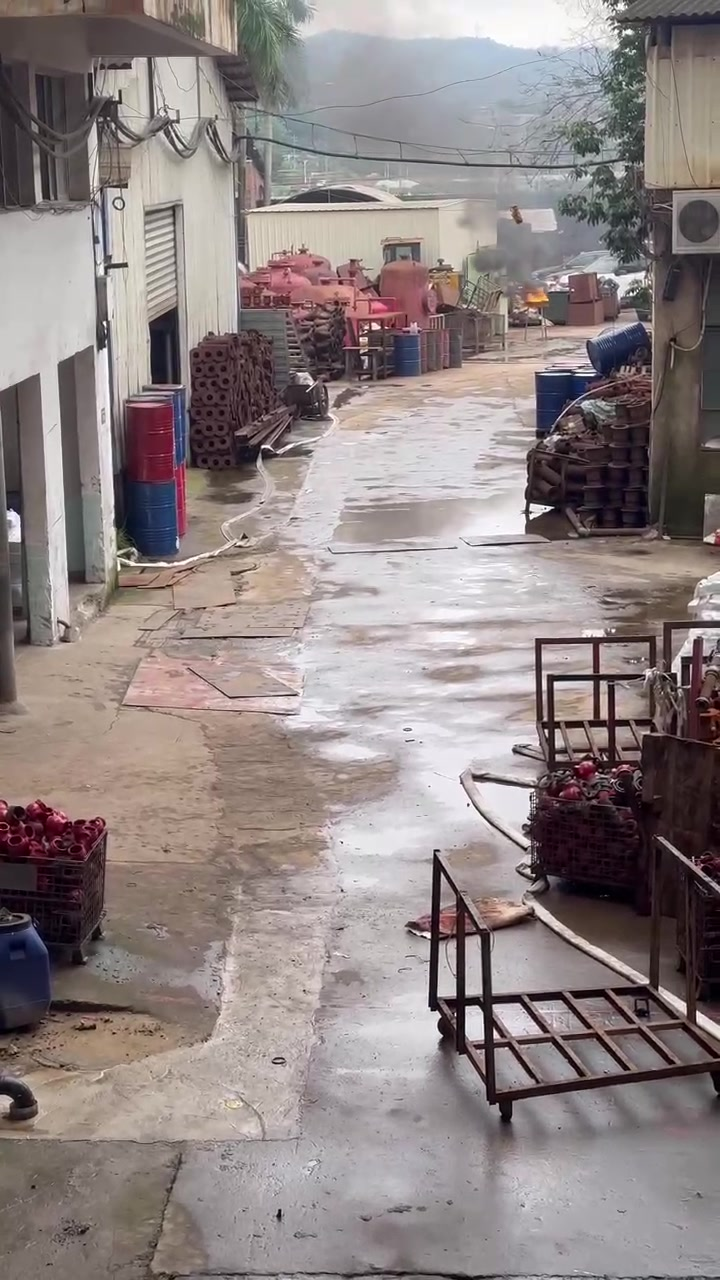fire: (526, 286, 547, 301)
